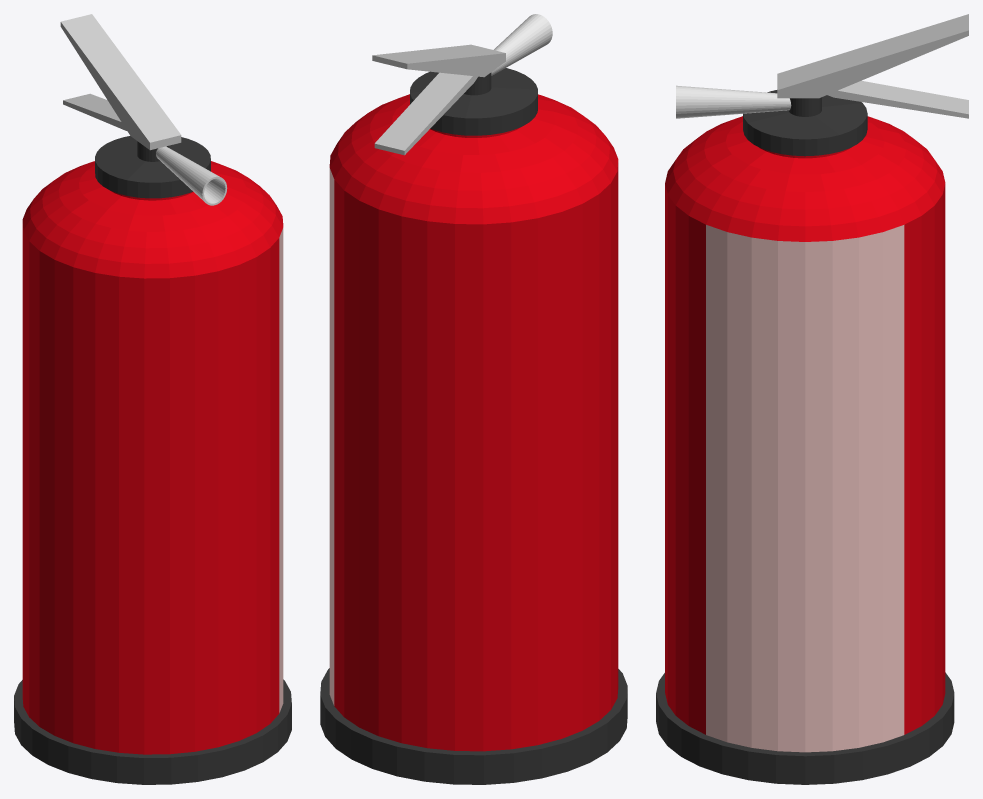
File: Feuerlöscher.glb
3 views of the same model, side by side, from view 1: azimuth 30°, elevation 25°; view 2: azimuth 150°, elevation 25°; view 3: azimuth 270°, elevation 25° (orthographic). The views are drawn at different scales.
Visible parts, largest first — view 1: Boden, Boden.001; view 2: Boden, Boden.001; view 3: Boden, Boden.001.
Part boxes in pixels (x1,y1,x2,y2): Boden: [14, 14, 291, 784]; Boden.001: [63, 93, 126, 130]; Boden: [320, 14, 627, 784]; Boden.001: [374, 72, 477, 155]; Boden: [656, 14, 968, 784]; Boden.001: [827, 80, 968, 118].
Size of the model in its own units: 2.09 by 5.4 by 2.19.
